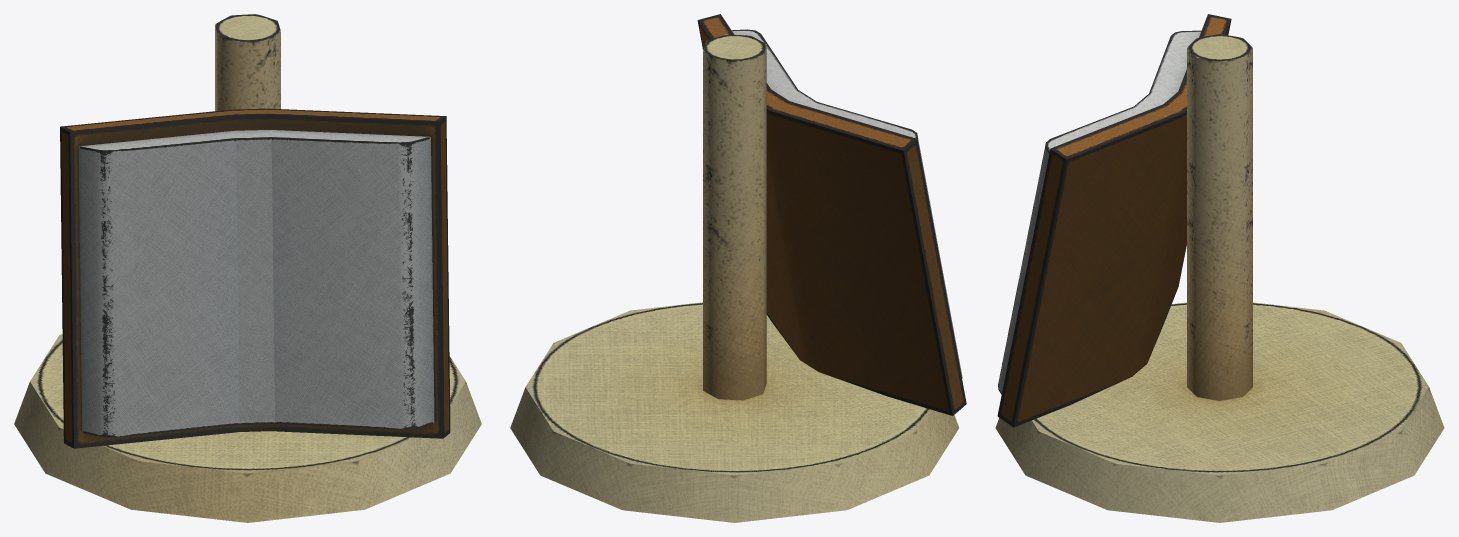
File: Libro.fbx
The picture shows the model from 3 angles, left to right: view 1: azimuth 30°, elevation 25°; view 2: azimuth 150°, elevation 25°; view 3: azimuth 270°, elevation 25°; orthographic projection. The views are drawn at different scales.
Parts seen in each view (by area): view 1: Cube.029, Cylinder.010, Cube.028, Cylinder.012; view 2: Cylinder.010, Cube.028, Cylinder.012, Cube.029; view 3: Cylinder.010, Cube.028, Cylinder.012, Cube.029.
Part boxes in pixels (<box>): Cube.029: <box>78,130,434,437</box>; Cylinder.010: <box>14,334,481,522</box>; Cube.028: <box>60,108,450,448</box>; Cylinder.012: <box>215,14,280,111</box>; Cylinder.010: <box>510,302,958,522</box>; Cube.028: <box>697,14,966,415</box>; Cylinder.012: <box>703,34,766,400</box>; Cube.029: <box>732,29,962,378</box>; Cylinder.010: <box>995,302,1444,522</box>; Cube.028: <box>997,14,1231,427</box>; Cylinder.012: <box>1187,34,1252,400</box>; Cube.029: <box>998,30,1201,394</box>.
Size of the model in its own units: 143 by 132 by 141.
